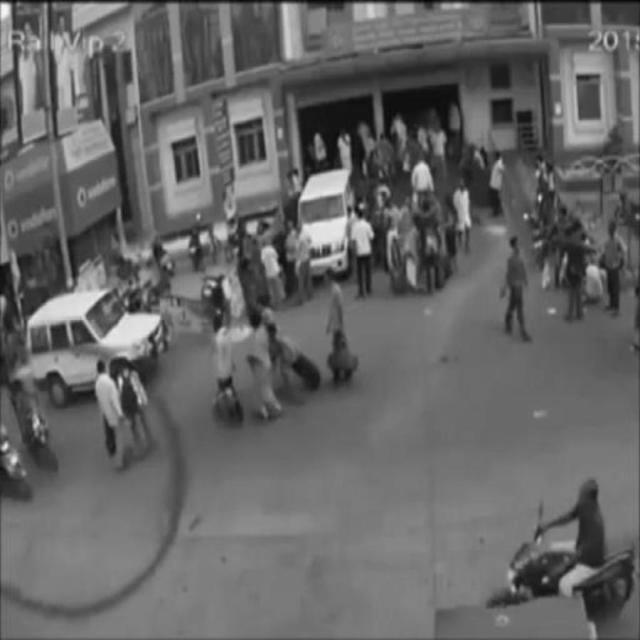person: (251, 311, 286, 424), (91, 362, 129, 466), (213, 315, 245, 413)
vehicle: (491, 478, 639, 618), (25, 290, 163, 400), (299, 162, 355, 282)
